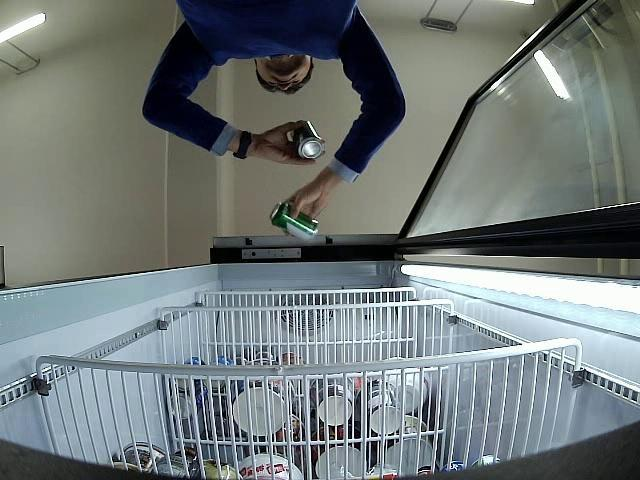12_chilsungCider: (270, 202, 320, 243), (292, 120, 324, 162)
